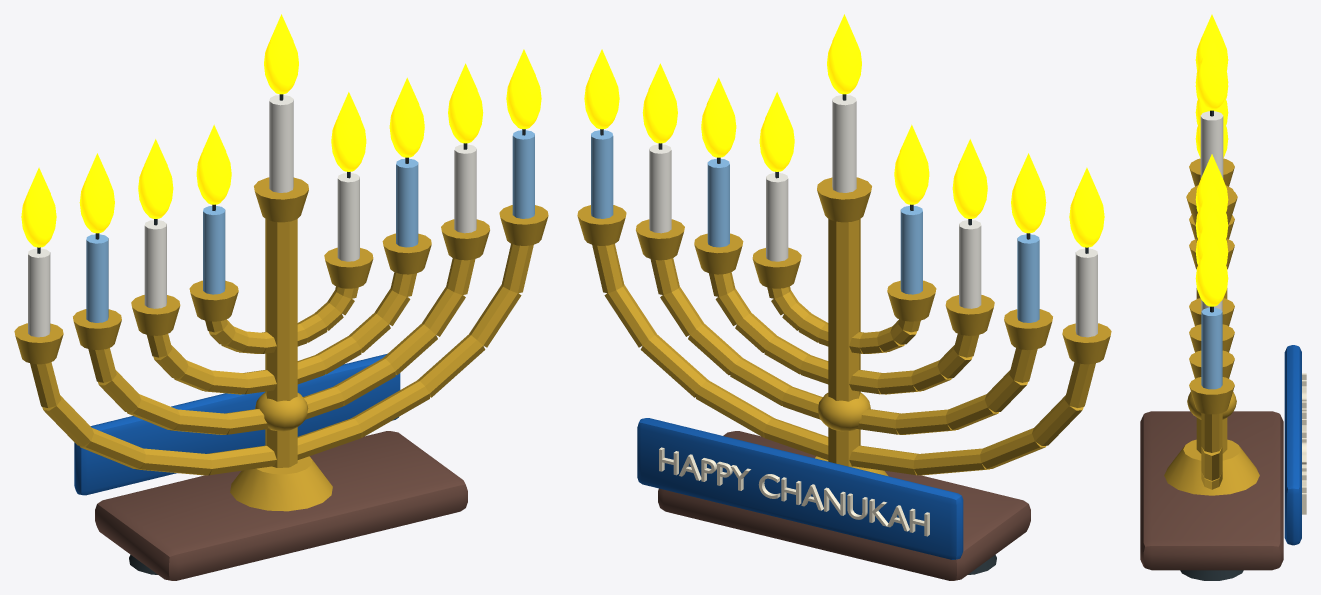
File: meta_menorah.glb
3 views of the same model, side by side, from view 1: azimuth 30°, elevation 25°; view 2: azimuth 150°, elevation 25°; view 3: azimuth 270°, elevation 25° (orthographic). The views are drawn at different scales.
Parts seen in each view (by area): view 1: MetaMenorah_body, Flame_1, Flame_4, Flame_6, Flame_2, Flame_5, Flame_8, Flame_7, Flame_3, Flame_S; view 2: MetaMenorah_body, Flame_1, Flame_4, Flame_6, Flame_2, Flame_5, Flame_8, Flame_7, Flame_3, Flame_S; view 3: MetaMenorah_body, Flame_S, Flame_8, Flame_7, Flame_6, Flame_5, Flame_1, Flame_4, Flame_3.
Boxes of the visible parts, left/top/right/bottom form: MetaMenorah_body: left=14, top=94, right=548, bottom=580; Flame_1: left=21, top=167, right=56, bottom=247; Flame_4: left=196, top=124, right=231, bottom=204; Flame_6: left=389, top=77, right=424, bottom=157; Flame_2: left=79, top=153, right=114, bottom=233; Flame_5: left=331, top=92, right=366, bottom=171; Flame_8: left=506, top=49, right=541, bottom=129; Flame_7: left=448, top=63, right=483, bottom=143; Flame_3: left=138, top=139, right=173, bottom=218; Flame_S: left=264, top=14, right=298, bottom=94; MetaMenorah_body: left=577, top=94, right=1111, bottom=580; Flame_1: left=1069, top=167, right=1104, bottom=247; Flame_4: left=894, top=124, right=929, bottom=204; Flame_6: left=701, top=77, right=736, bottom=157; Flame_2: left=1011, top=153, right=1046, bottom=233; Flame_5: left=759, top=92, right=794, bottom=171; Flame_8: left=584, top=49, right=619, bottom=129; Flame_7: left=642, top=63, right=677, bottom=143; Flame_3: left=952, top=139, right=987, bottom=218; Flame_S: left=827, top=14, right=861, bottom=94; MetaMenorah_body: left=1140, top=110, right=1306, bottom=580; Flame_S: left=1195, top=37, right=1228, bottom=110; Flame_8: left=1195, top=233, right=1228, bottom=306; Flame_7: left=1195, top=207, right=1228, bottom=264; Flame_6: left=1195, top=180, right=1228, bottom=238; Flame_5: left=1195, top=154, right=1228, bottom=211; Flame_1: left=1195, top=14, right=1228, bottom=70; Flame_4: left=1195, top=108, right=1228, bottom=158; Flame_3: left=1195, top=98, right=1228, bottom=124.
Bounding box in the file's own units: 0.5868 × 0.551 × 0.174.
